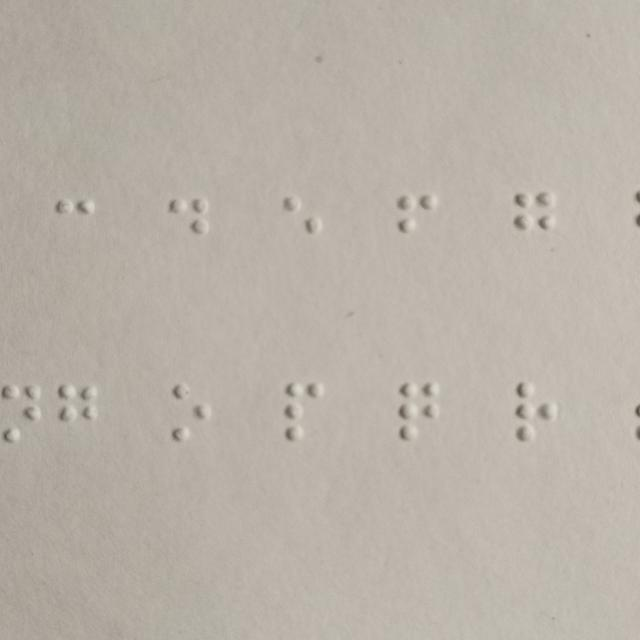letter_c: (55, 198, 93, 258)
letter_d: (170, 198, 209, 258)
letter_e: (282, 196, 321, 256)
letter_f: (398, 195, 436, 255)
letter_g: (516, 193, 556, 253), (59, 385, 97, 445)
letter_n: (1, 383, 39, 443)
letter_o: (172, 384, 211, 444)
letter_p: (285, 382, 323, 442)
letter_q: (399, 381, 439, 441)
letter_r: (516, 382, 558, 442)
